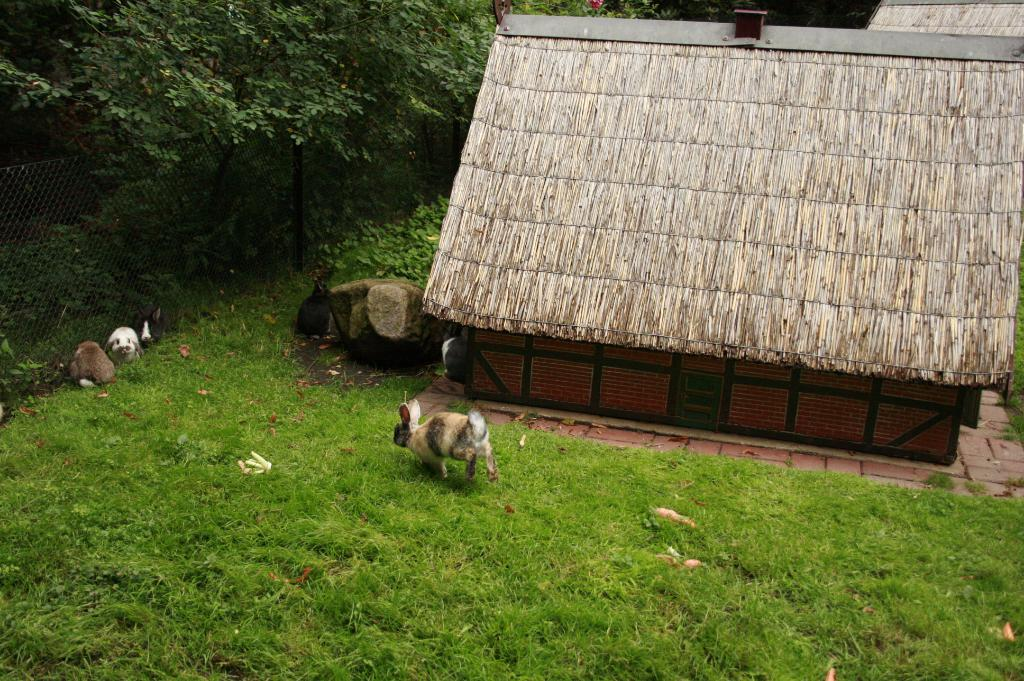Animal: (387, 397, 497, 480), (67, 337, 120, 384), (100, 327, 140, 362)
